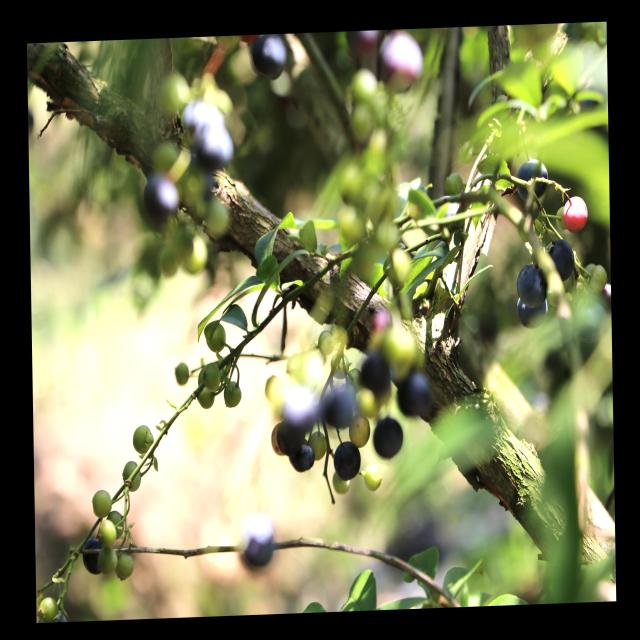blueberry: (136, 170, 183, 228), (189, 120, 236, 168), (236, 517, 276, 570), (246, 34, 287, 82), (371, 412, 406, 462), (396, 370, 432, 417), (542, 238, 577, 284), (514, 261, 547, 309), (514, 157, 549, 201), (332, 436, 361, 484), (360, 351, 391, 394), (513, 297, 549, 333), (323, 386, 353, 427), (275, 418, 303, 452), (289, 440, 315, 472)
blueberry-halfripe: (563, 194, 590, 232)
blueberry-unripe: (347, 413, 370, 452), (362, 461, 384, 497)
